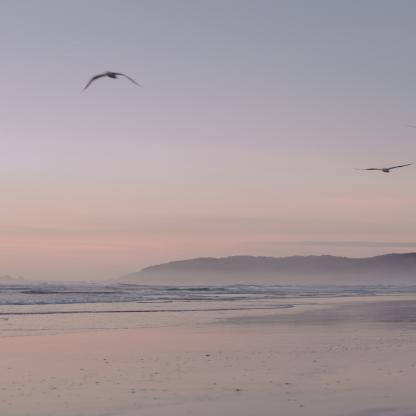bird: (82, 71, 141, 90), (354, 164, 413, 172)
